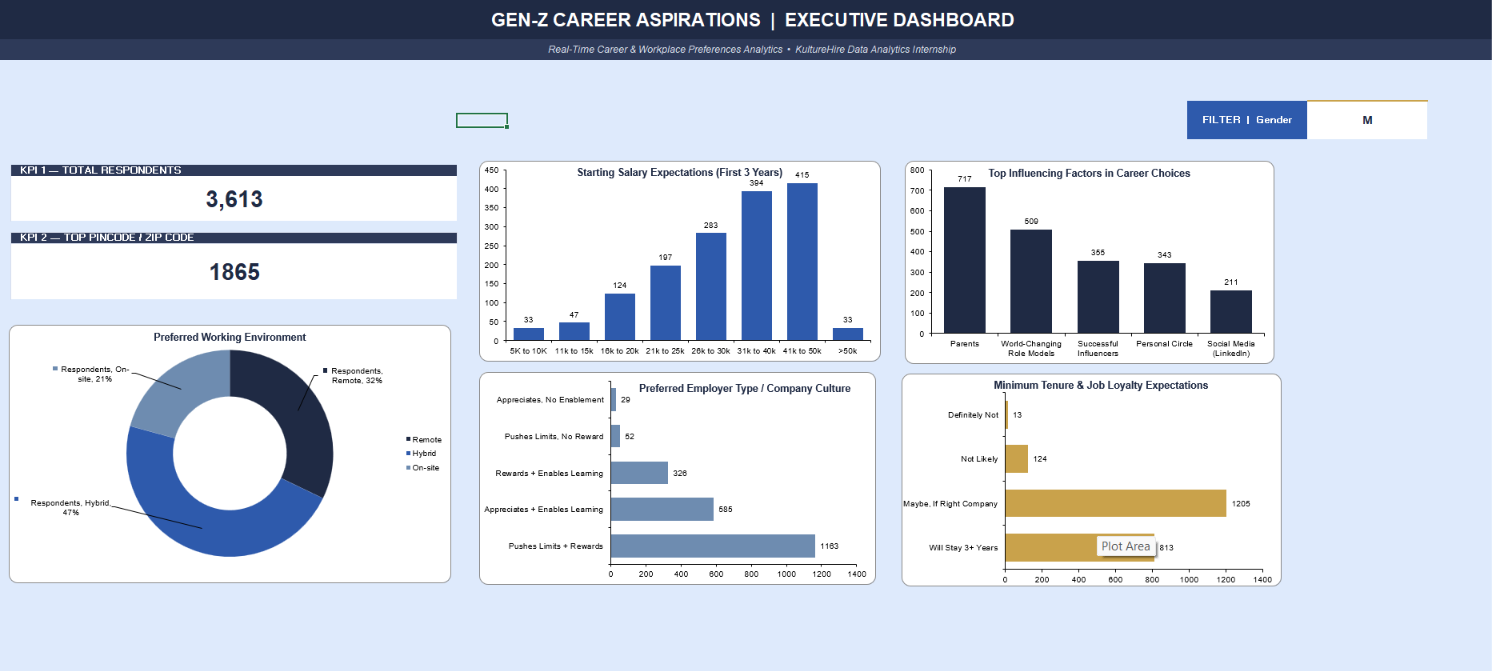

What the dashboard file says about the page in this screenshot:
{"tool":"powerbi","page":{"name":"Manager Aspiration","canvas":[1920,1080],"ordinal":0},"visuals":[{"type":"textbox","box":[0,0,1919.5,103.7],"z":0},{"type":"cardVisual","title":"Total Pincodes","fields":{"Data":["CountNonNull(Form responses 1.Zip_Code)"]},"box":[677.5,135,532.5,190],"z":1000},{"type":"cardVisual","title":"Total Participants","fields":{"Data":["CountNonNull(Form responses 1.Response_Timestamp)"]},"box":[47.5,135,532.5,190],"z":2000},{"type":"advancedSlicerVisual","fields":{"Values":["Form responses 1.Gender"]},"box":[1300,125,620,200],"z":3000},{"type":"columnChart","title":"Preferred Working Environment","fields":{"Category":["Form responses 1.Preferred_Work_Env"],"Y":["CountNonNull(Form responses 1.Preferred_Work_Env)"]},"box":[47.5,347.5,532.5,347.5],"z":4000},{"type":"clusteredBarChart","title":"Top Influencing Factor","fields":{"Category":["Form responses 1.Career_Influence_Factors"],"Y":["CountNonNull(Form responses 1.Career_Influence_Factors)"]},"box":[675,347.5,533,342],"z":5000},{"type":"clusteredColumnChart","title":"Expected Salary After 5 Years","fields":{"Category":["Form responses 1.Salary_After_5_Years"],"Y":["CountNonNull(Form responses 1.Salary_After_5_Years)"]},"box":[1300,347.5,533,342],"z":6000},{"type":"clusteredBarChart","title":"Expected Salary In First 3 Years","fields":{"Category":["Form responses 1.Salary_First_3_Years"],"Y":["CountNonNull(Form responses 1.Salary_First_3_Years)"]},"box":[47.5,712.5,533,342],"z":7000},{"type":"clusteredColumnChart","title":"Expected Salary After 7 Years","fields":{"Category":["Form responses 1.Likelihood_7Plus_Years"],"Y":["CountNonNull(Form responses 1.Likelihood_7Plus_Years)"]},"box":[675,715,533,342],"z":8000},{"type":"donutChart","title":"Preferred Employer","fields":{"Category":["Form responses 1.Employer_Preference"],"Y":["CountNonNull(Form responses 1.Employer_Preference)"]},"box":[1300,713,533,342],"z":9000}]}

Visuals, with their boxes on the page's 1920x1080 design canvas (x1, y1, x2, y2). These are canvas units, not pixel positions in the 1492x671 screenshot, which may show the page scaled, cropped or inside an application window:
textbox: box=[0, 0, 1920, 104]
"Total Pincodes" cardVisual: box=[678, 135, 1210, 325]
"Total Participants" cardVisual: box=[48, 135, 580, 325]
advancedSlicerVisual - Form responses 1.Gender: box=[1300, 125, 1920, 325]
"Preferred Working Environment" columnChart: box=[48, 348, 580, 695]
"Top Influencing Factor" clusteredBarChart: box=[675, 348, 1208, 690]
"Expected Salary After 5 Years" clusteredColumnChart: box=[1300, 348, 1833, 690]
"Expected Salary In First 3 Years" clusteredBarChart: box=[48, 712, 580, 1054]
"Expected Salary After 7 Years" clusteredColumnChart: box=[675, 715, 1208, 1057]
"Preferred Employer" donutChart: box=[1300, 713, 1833, 1055]
